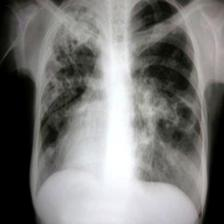tuberculosis: (32, 0, 210, 219)
